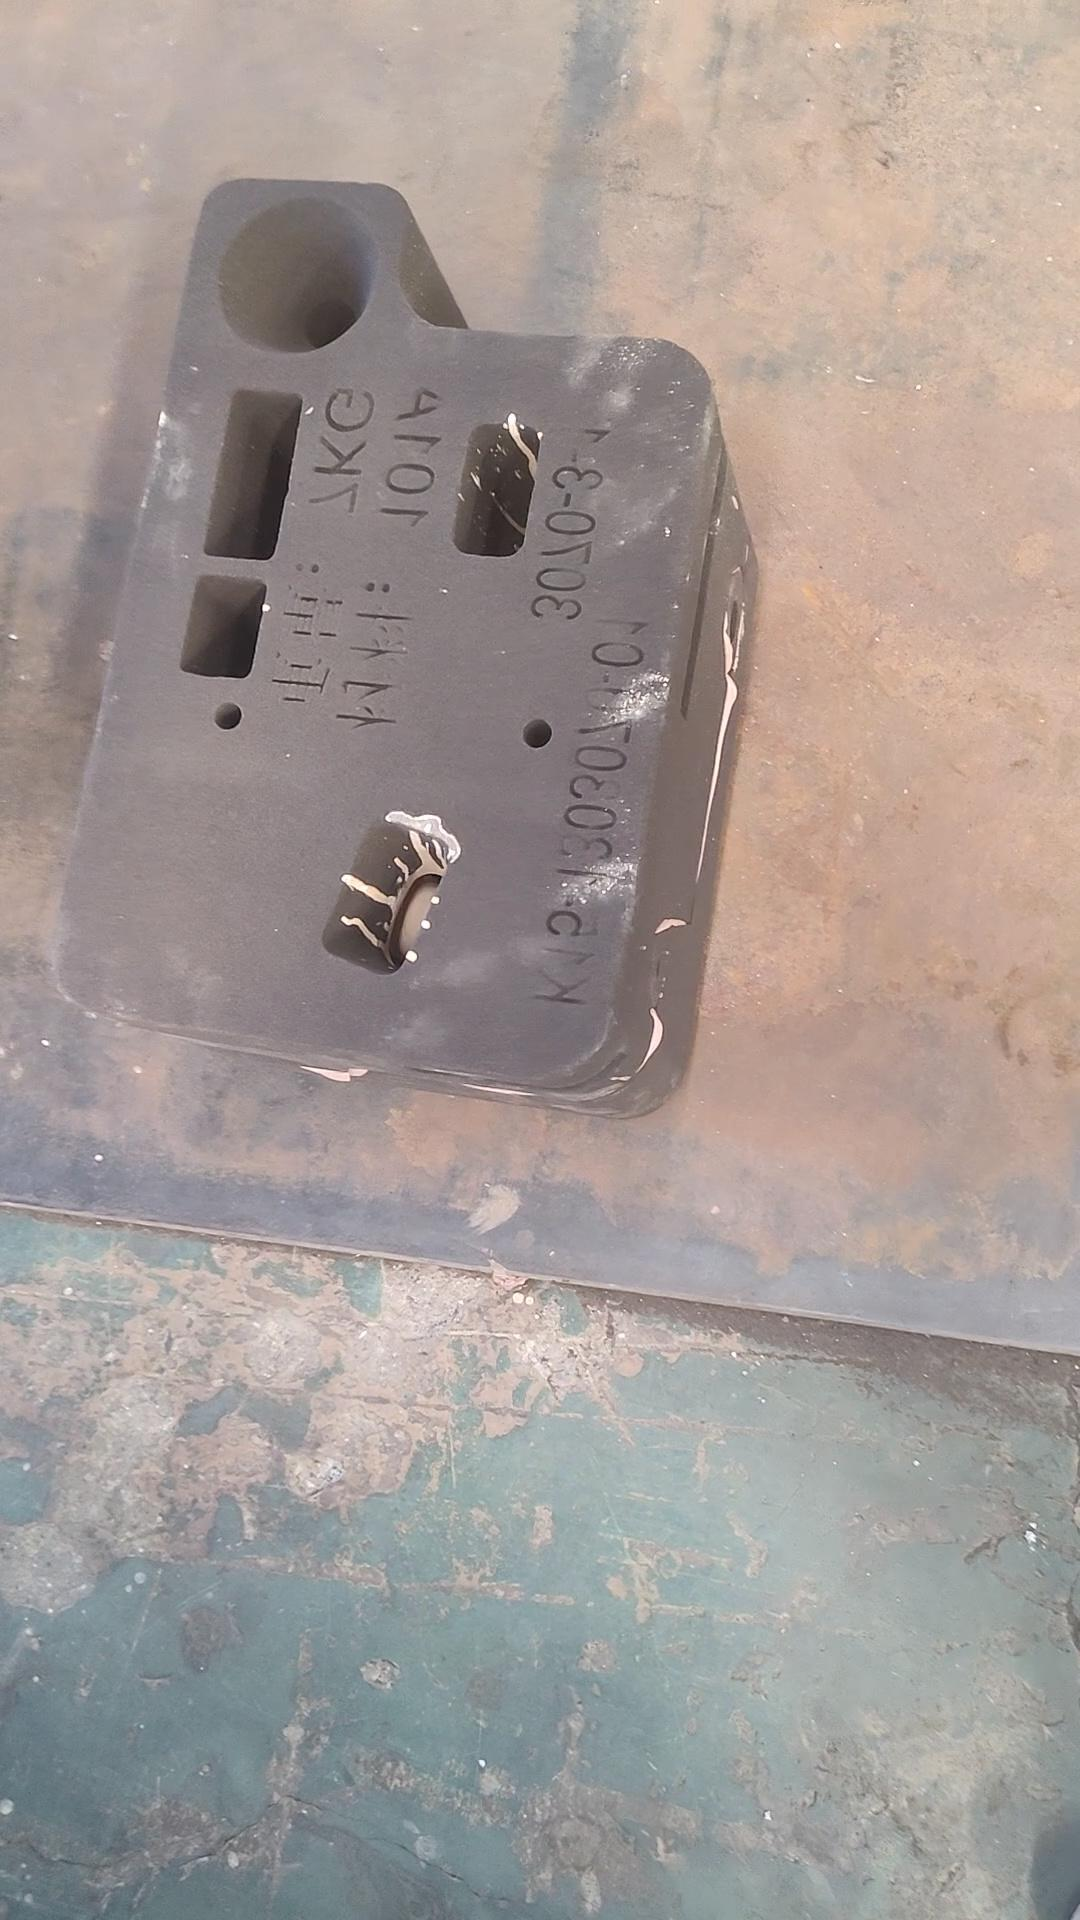pouring hole: (214, 191, 378, 359)
